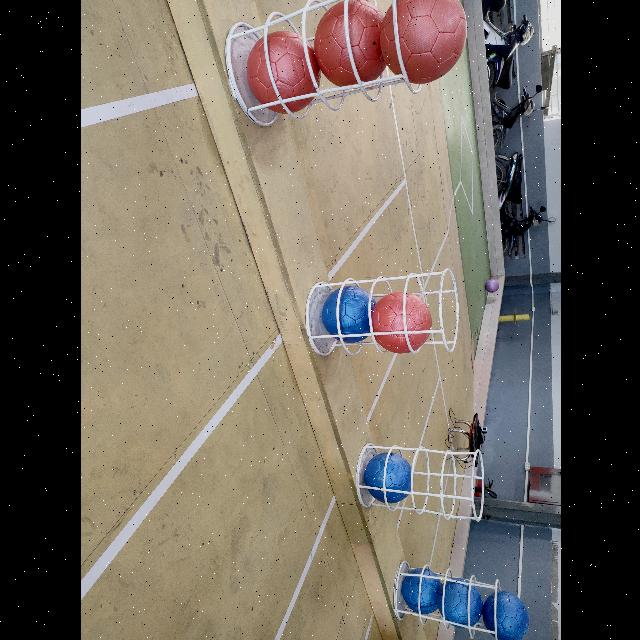B: (316, 284, 374, 344), (365, 452, 413, 503), (484, 592, 528, 640), (438, 578, 482, 622), (398, 566, 439, 612)
R: (380, 0, 466, 84), (245, 32, 317, 112), (314, 1, 380, 88), (369, 292, 431, 356)
